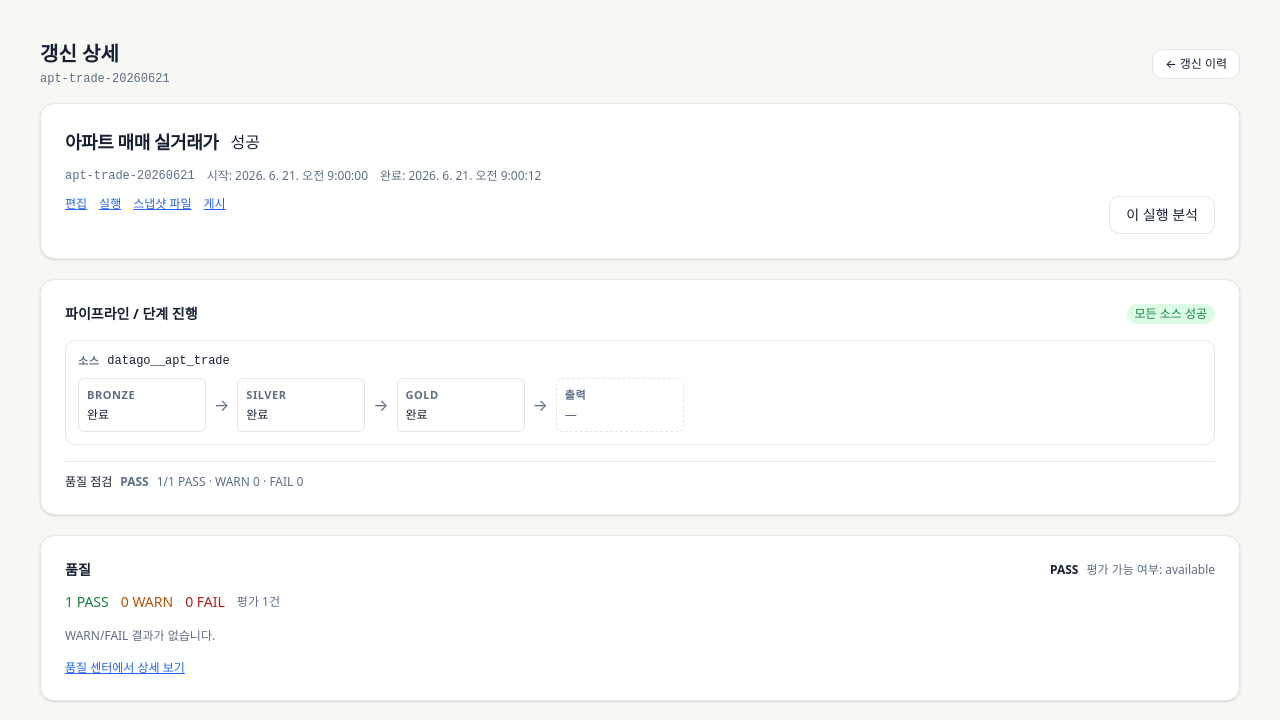
it: Run 분석 no-key UX (#286 후속 보완) › API Key 미설정: '이 실행 분석' 클릭 시 seed하지 않고 inline card에 설정 안내만 연다
This screenshot has width=1280, height=720.
Expected: the heading "아파트 매매 실거래가" is shown, left=65, top=128, right=218, bottom=156
Step 1. Click the button "이 실행 분석" → (1162, 215), box left=1109, top=196, right=1215, bottom=234
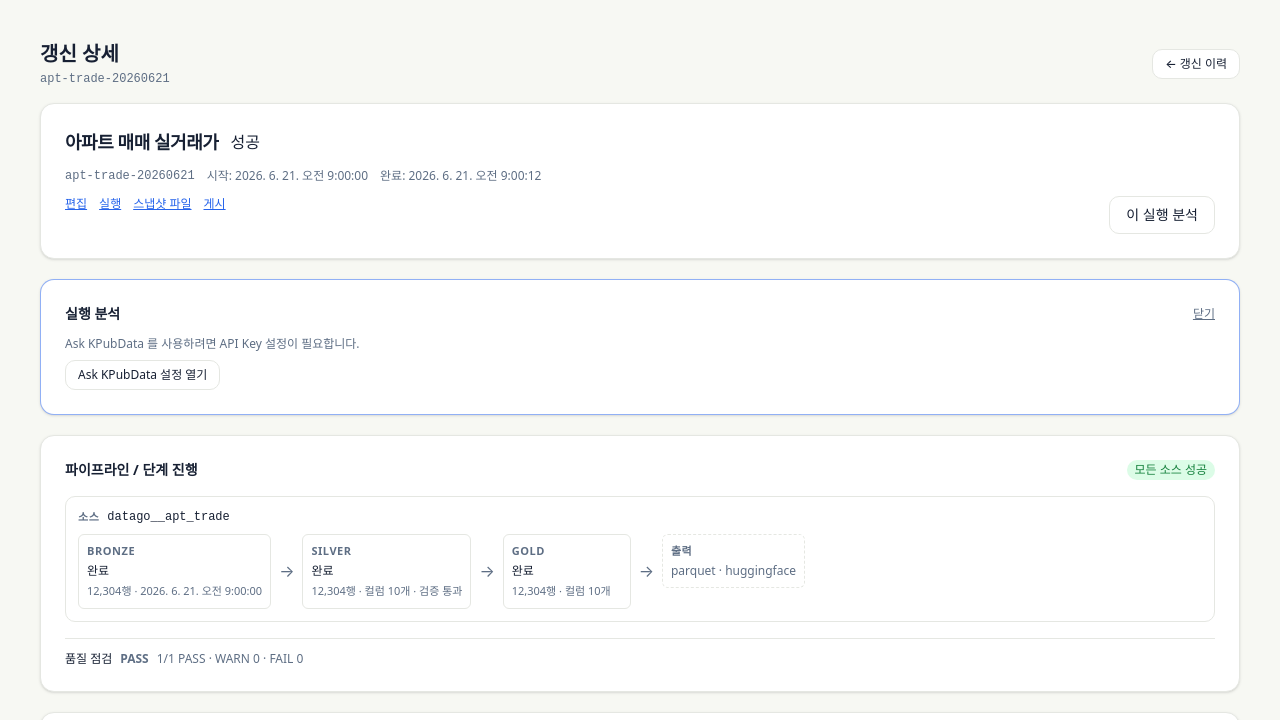
Result: the text "Ask KPubData 를 사용하려면 API Key 설정이 필요합니다." is shown at left=65, top=335, right=360, bottom=352
Result: the button "Ask KPubData 설정 열기" is shown at left=65, top=360, right=220, bottom=390
